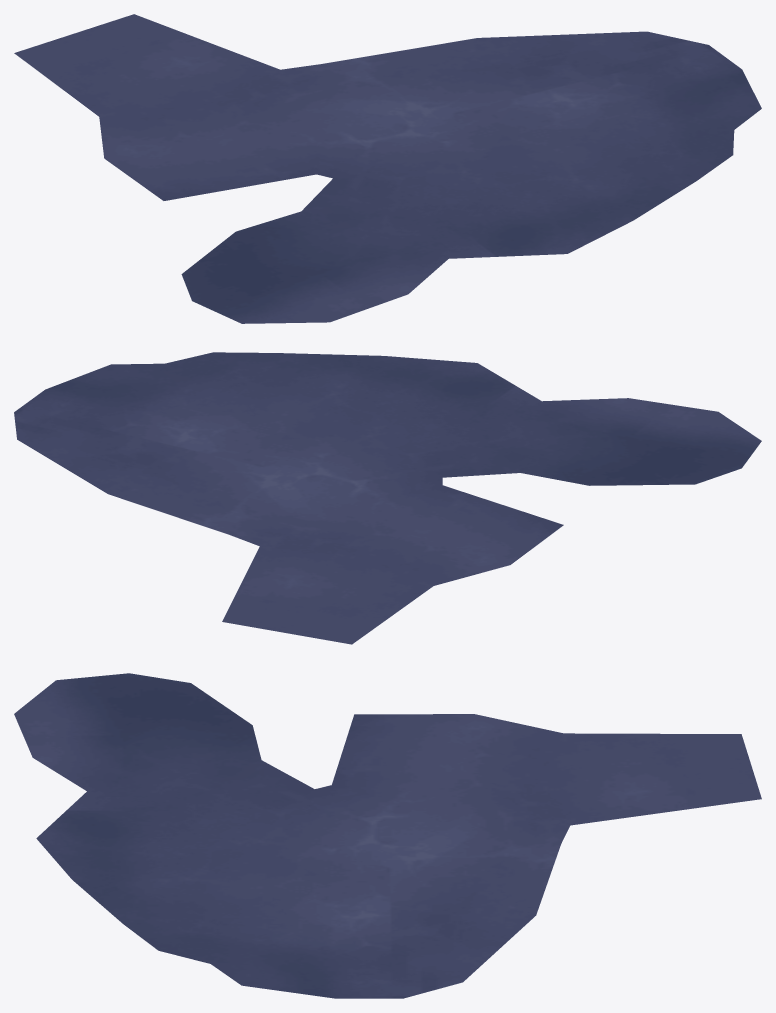
Rendered from yw_ziyuanpingtai_dibiao_001.FBX.
3 views of the same model, one above another, from view 1: azimuth 30°, elevation 25°; view 2: azimuth 150°, elevation 25°; view 3: azimuth 270°, elevation 25° (orthographic). The views are drawn at different scales.
Parts seen in each view (by area): view 1: yw_ziyuanpingtai_dibiao_001; view 2: yw_ziyuanpingtai_dibiao_001; view 3: yw_ziyuanpingtai_dibiao_001.
Boxes of the visible parts, x1=… form: yw_ziyuanpingtai_dibiao_001: x1=14, y1=14, x2=761, y2=323; yw_ziyuanpingtai_dibiao_001: x1=14, y1=352, x2=761, y2=644; yw_ziyuanpingtai_dibiao_001: x1=14, y1=673, x2=761, y2=998.
Bounding box in the file's own units: 3831 × 2.48 × 3726.
